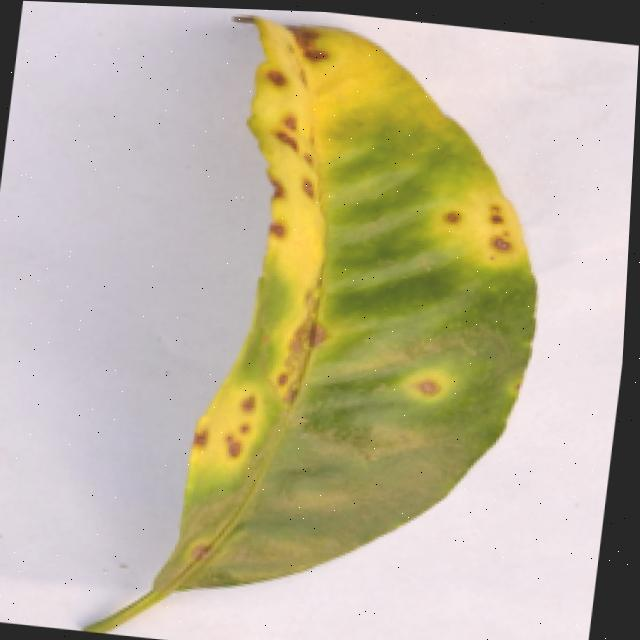canker: (147, 16, 533, 604), (196, 8, 400, 286), (411, 166, 549, 300), (174, 360, 277, 494), (259, 258, 333, 415), (387, 349, 463, 423)
